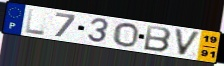3: (85, 17, 110, 45)
7: (53, 11, 79, 39)
B: (142, 24, 173, 54)
L: (24, 8, 46, 37)
O: (112, 22, 140, 48)
V: (173, 28, 202, 57)
